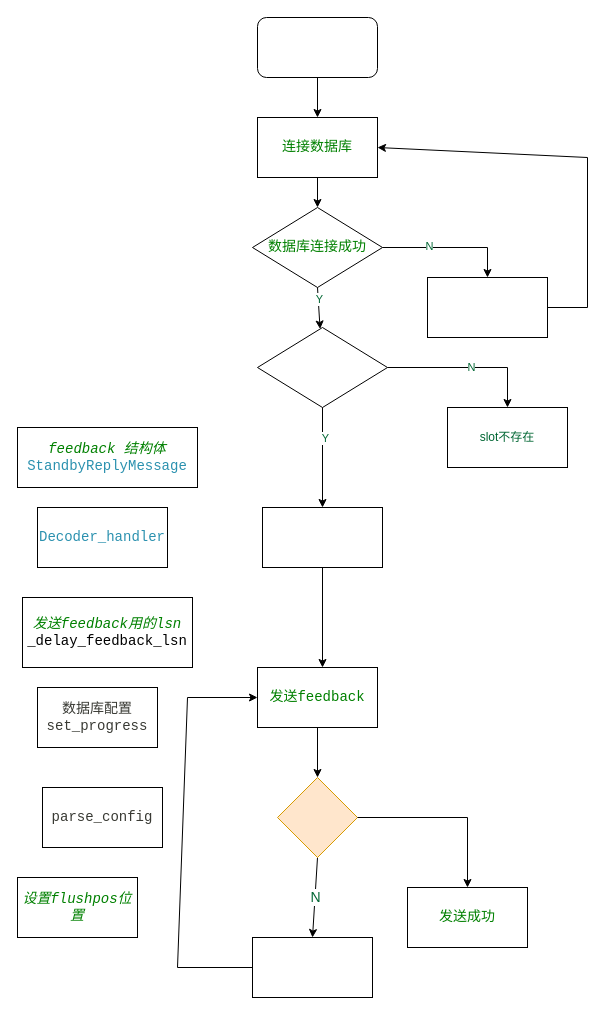
Image size: 613x1015. Some labels were removed from this diagram. Each missing label, with the centre of its shape:
feedback传参: point (322, 537)
server返回成功 返回方式？: point (317, 817)
判断slot是否存在: point (322, 367)
失败重传: point (312, 967)
数据库连接失败: point (487, 307)
用户输入参数 启动: point (317, 47)
